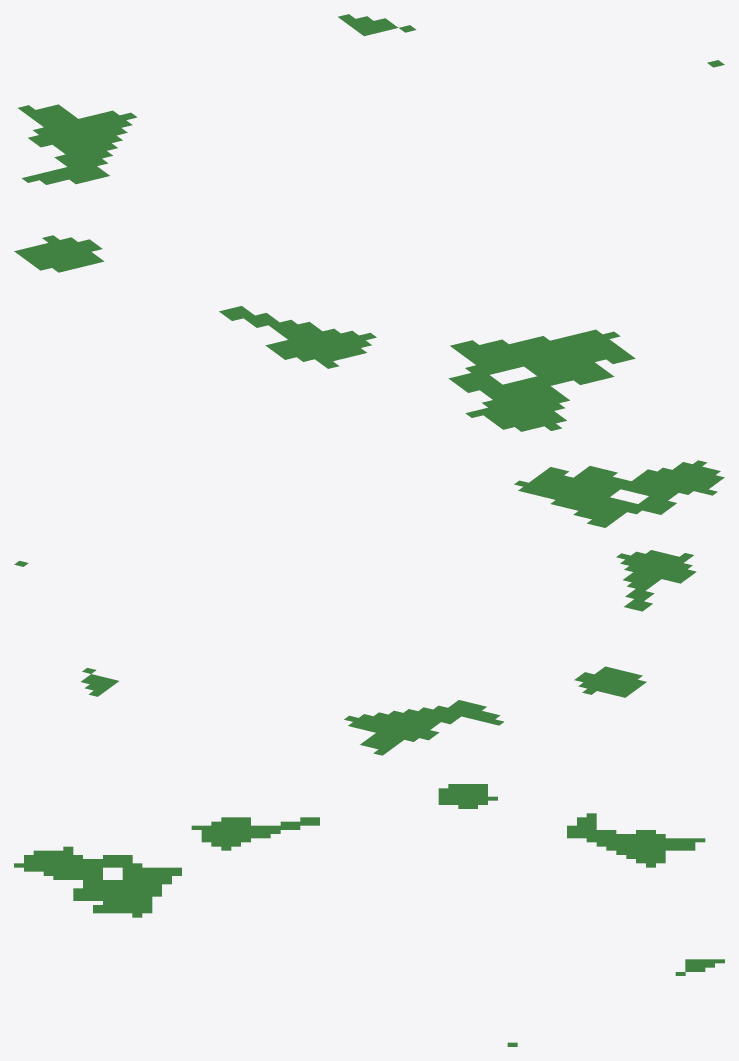
Rendered from Isl-start6-TreesArea.fbx.
3 renders of one model, top to bottom at view 1: azimuth 30°, elevation 25°; view 2: azimuth 150°, elevation 25°; view 3: azimuth 270°, elevation 25°, orthographic. The views are drawn at different scales.
Visible parts, largest first — view 1: Isl-start6-TreesArea; view 2: Isl-start6-TreesArea; view 3: Isl-start6-TreesArea.
Part boxes in pixels (left/top/right/bottom): Isl-start6-TreesArea: left=14, top=14, right=724, bottom=431; Isl-start6-TreesArea: left=14, top=460, right=724, bottom=755; Isl-start6-TreesArea: left=14, top=784, right=724, bottom=1046.
Size of the model in its own units: 63 by 0 by 72.
